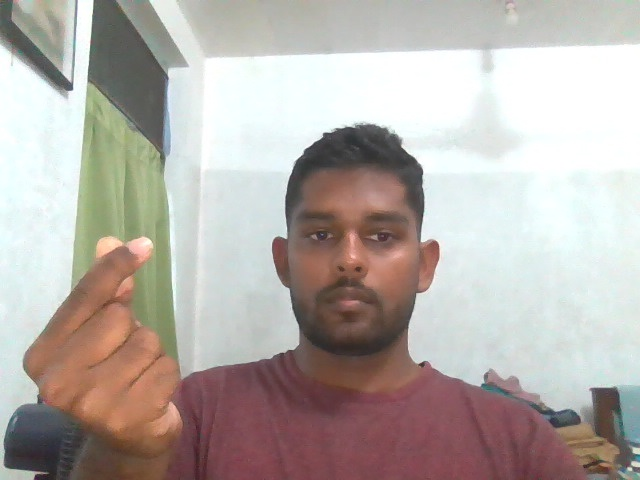iloveyou: (17, 230, 192, 475)
